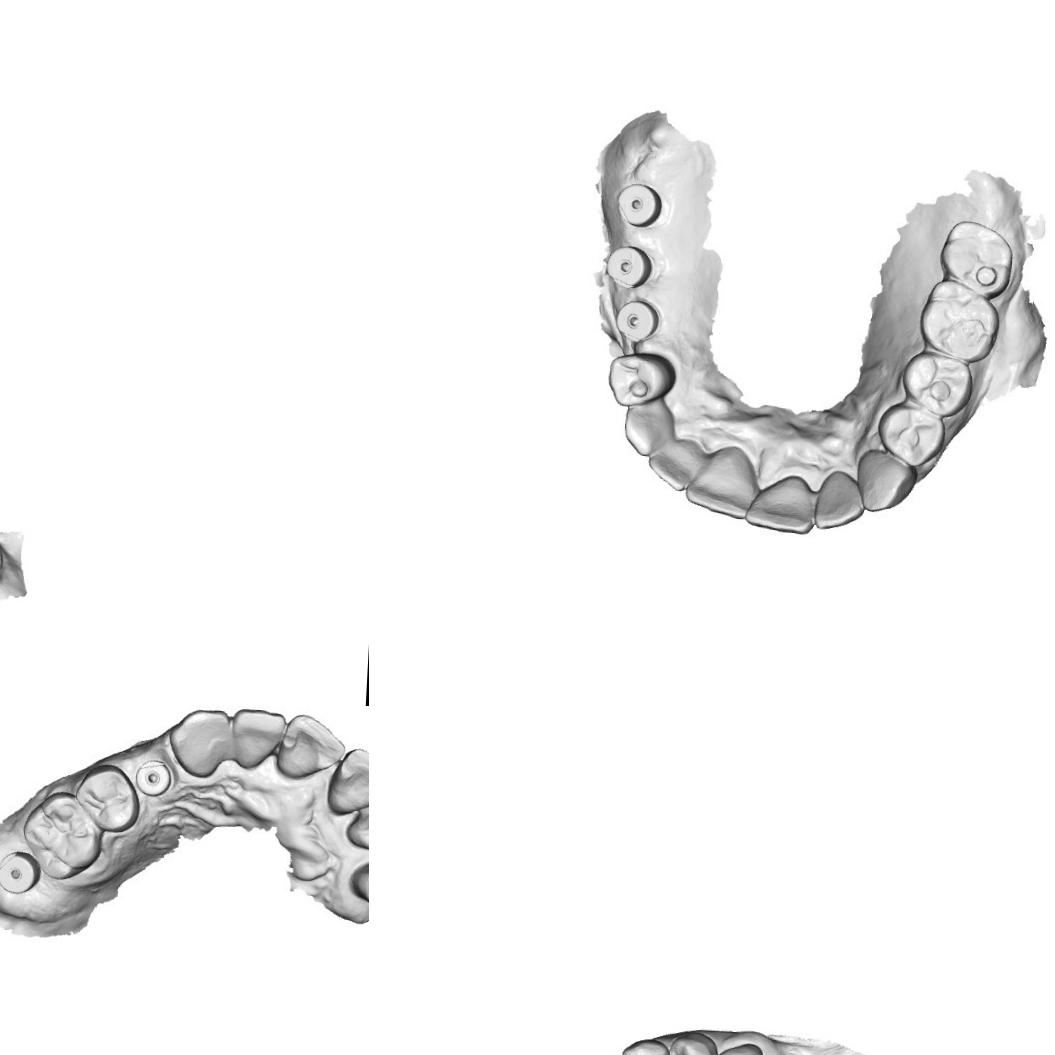canine: (164, 706, 233, 781), (855, 448, 913, 513), (621, 399, 678, 454), (344, 852, 369, 924), (617, 1034, 670, 1055)
implant: (613, 176, 666, 234), (608, 295, 664, 349), (603, 243, 656, 294), (0, 845, 44, 902), (130, 748, 173, 802)
incisor: (272, 710, 345, 782), (688, 448, 753, 512), (746, 476, 812, 536), (229, 706, 286, 770), (324, 743, 369, 818), (813, 466, 865, 528), (649, 438, 702, 488), (344, 793, 369, 856)
molar: (18, 787, 106, 883), (918, 274, 997, 360), (939, 218, 1014, 292)
premolar: (74, 761, 142, 832), (878, 400, 944, 466), (905, 350, 970, 414), (607, 350, 669, 404), (665, 1029, 716, 1055), (707, 1038, 766, 1055)
